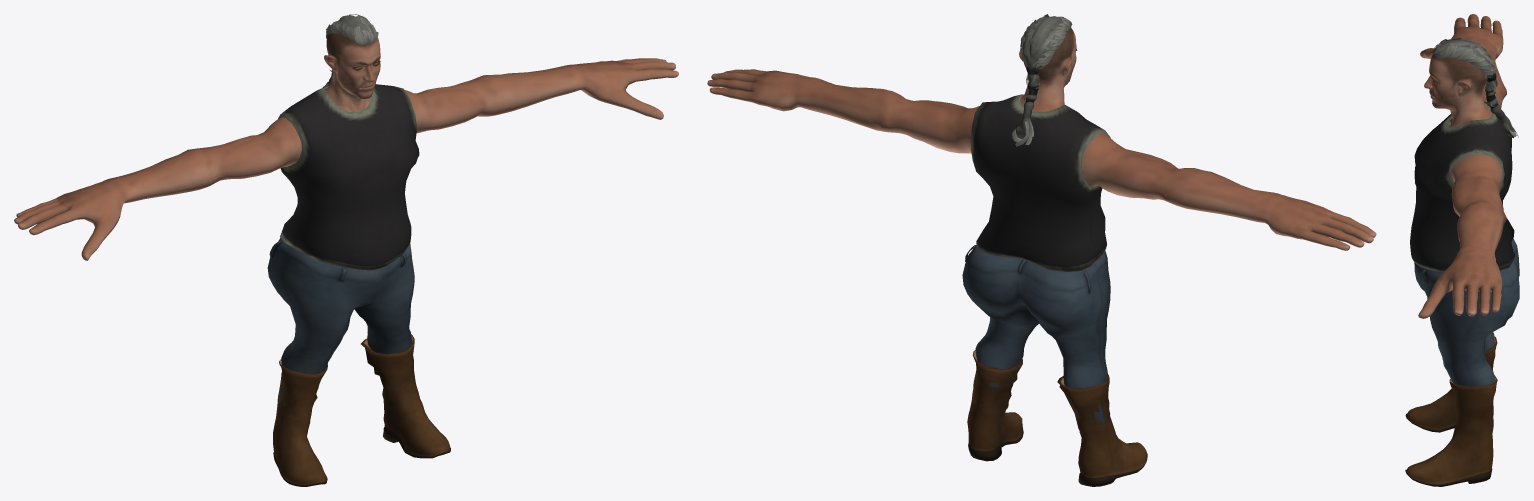
Rendered from Personaje3.obj.
3 renders of one model, left to right at view 1: azimuth 30°, elevation 25°; view 2: azimuth 150°, elevation 25°; view 3: azimuth 270°, elevation 25°, orthographic. The views are drawn at different scales.
Parts seen in each view (by area): view 1: Body, Tops, Bottoms, Shoes, Hair; view 2: Body, Tops, Bottoms, Shoes, Hair; view 3: Body, Tops, Shoes, Bottoms, Hair.
Part boxes in pixels (bbox=[...]): Body: bbox=[14, 33, 678, 260]; Tops: bbox=[278, 84, 419, 270]; Bottoms: bbox=[267, 238, 415, 408]; Shoes: bbox=[273, 334, 450, 486]; Hair: bbox=[322, 14, 378, 87]; Body: bbox=[707, 28, 1376, 250]; Tops: bbox=[970, 94, 1110, 272]; Bottoms: bbox=[962, 245, 1110, 423]; Shoes: bbox=[967, 350, 1147, 486]; Hair: bbox=[1012, 14, 1072, 146]; Body: bbox=[1418, 14, 1506, 318]; Tops: bbox=[1410, 101, 1514, 271]; Shoes: bbox=[1405, 336, 1497, 486]; Bottoms: bbox=[1414, 238, 1519, 434]; Hair: bbox=[1432, 37, 1518, 138].
Size of the model in its own units: 249 by 159 by 40.17.
Materials: 1 (1 with a texture image).
